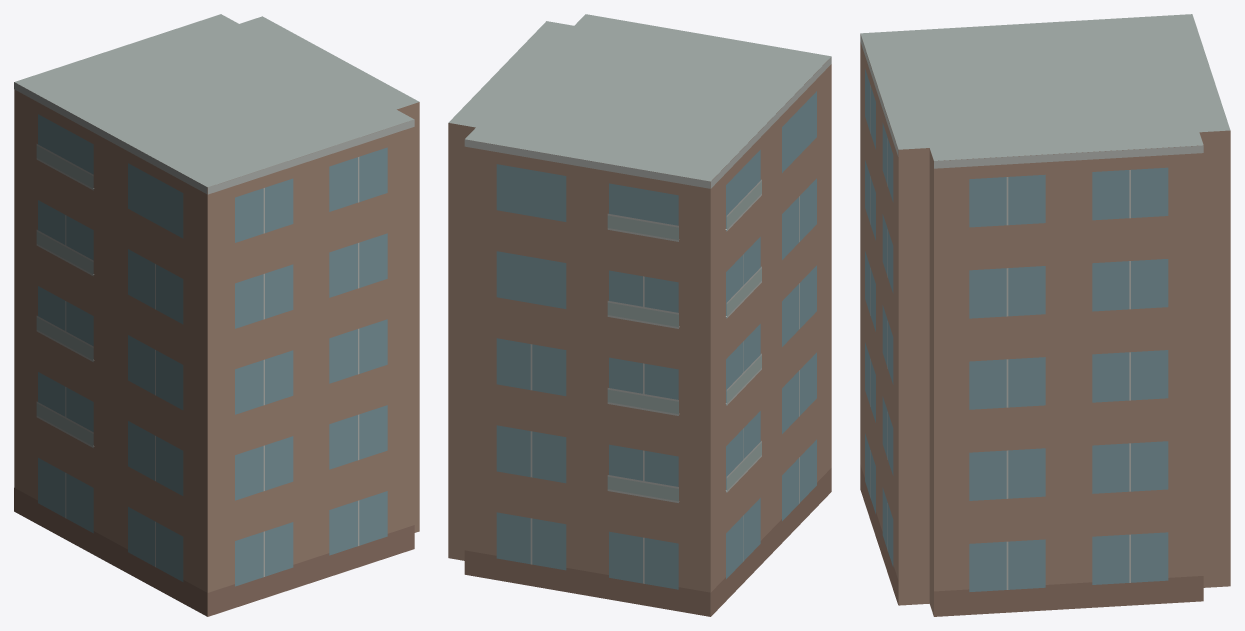
The model's file is survey-upis-32542796.glb.
3 views of the same model, side by side, from view 1: azimuth 30°, elevation 25°; view 2: azimuth 150°, elevation 25°; view 3: azimuth 270°, elevation 25° (orthographic). The views are drawn at different scales.
Parts seen in each view (by area): view 1: survey-upis-32542796.tmp; view 2: survey-upis-32542796.tmp; view 3: survey-upis-32542796.tmp.
Part boxes in pixels (bbox=[...]): survey-upis-32542796.tmp: bbox=[14, 14, 419, 616]; survey-upis-32542796.tmp: bbox=[448, 14, 831, 616]; survey-upis-32542796.tmp: bbox=[860, 14, 1230, 616].
Bounding box in the file's own units: 10 × 14.45 × 10.65.
